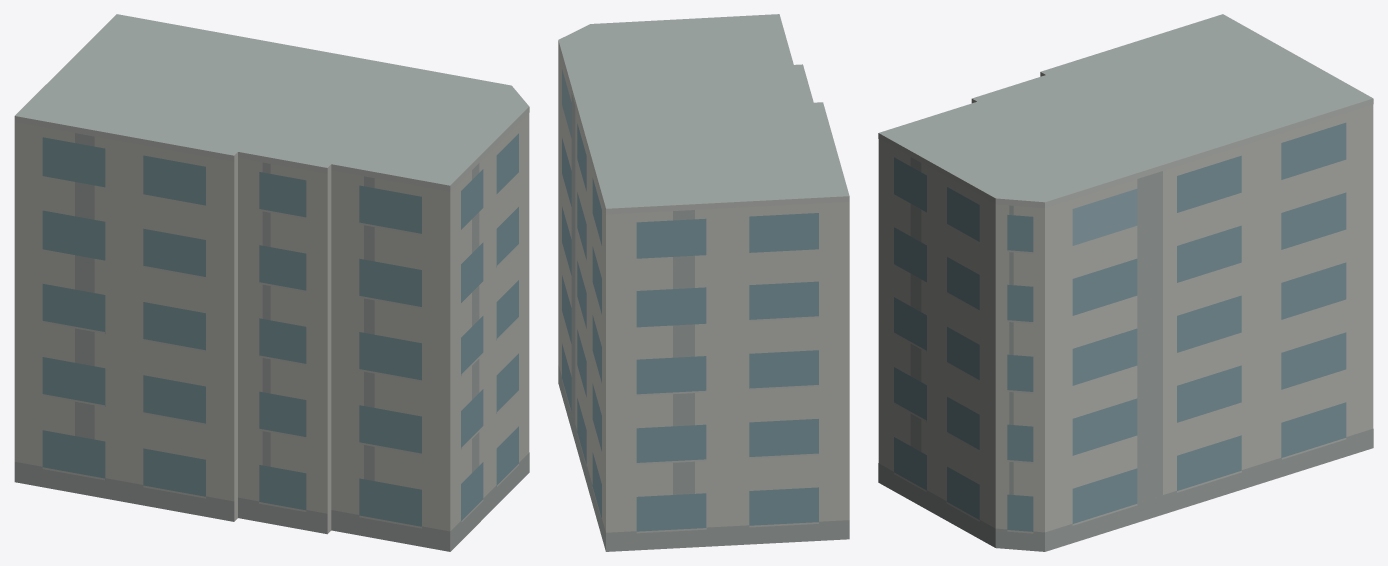
File: survey-upis-32604223.glb
3 renders of one model, left to right at view 1: azimuth 30°, elevation 25°; view 2: azimuth 150°, elevation 25°; view 3: azimuth 270°, elevation 25°, orthographic. The views are drawn at different scales.
Visible parts, largest first — view 1: survey-upis-32604223.tmp; view 2: survey-upis-32604223.tmp; view 3: survey-upis-32604223.tmp.
Boxes of the visible parts, x1,y1,x2,y2 form: survey-upis-32604223.tmp: [14, 14, 529, 551]; survey-upis-32604223.tmp: [558, 14, 849, 551]; survey-upis-32604223.tmp: [878, 14, 1373, 551].
Bounding box in the file's own units: 16.64 × 14.4 × 18.49.
